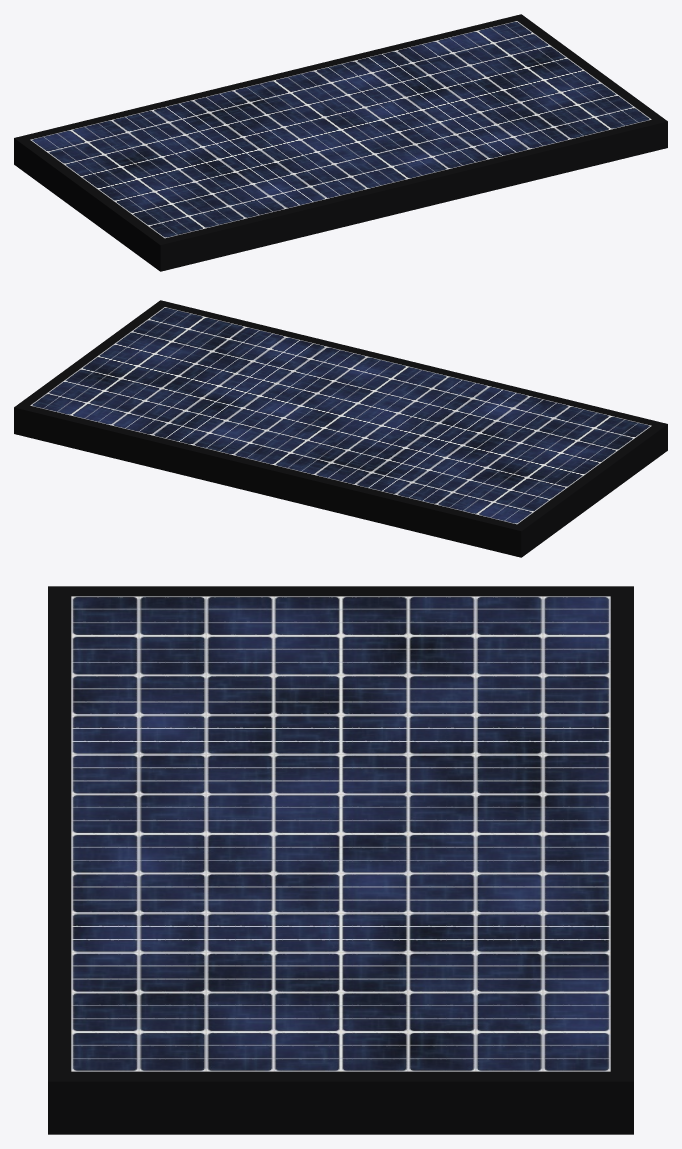
File: SolarPanel.FBX
3 renders of one model, top to bottom at view 1: azimuth 30°, elevation 25°; view 2: azimuth 150°, elevation 25°; view 3: azimuth 270°, elevation 25°, orthographic. The views are drawn at different scales.
Parts seen in each view (by area): view 1: Box001, Object001; view 2: Box001, Object001; view 3: Box001, Object001.
Part boxes in pixels (bbox=[...]): Box001: bbox=[30, 21, 651, 238]; Object001: bbox=[14, 14, 667, 271]; Box001: bbox=[30, 307, 651, 524]; Object001: bbox=[14, 300, 667, 557]; Box001: bbox=[71, 596, 610, 1071]; Object001: bbox=[48, 586, 633, 1134].
Bounding box in the file's own units: 20 × 10 × 1.
Materials: 2 (1 with a texture image).
